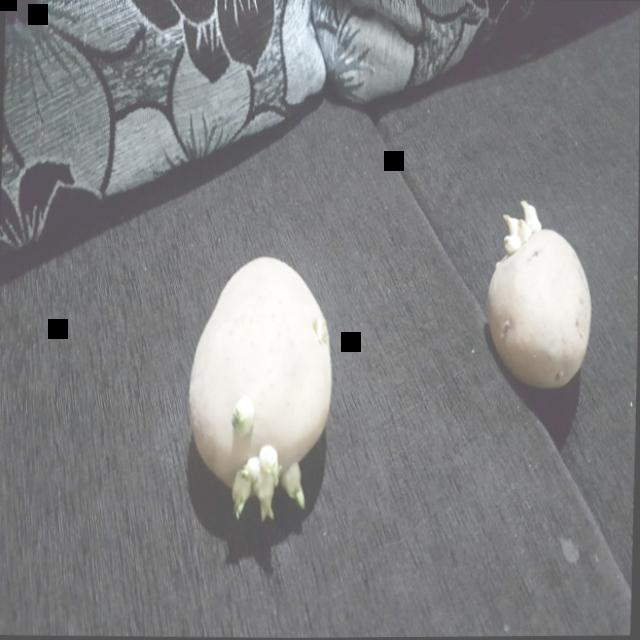potato: (183, 246, 337, 519), (484, 197, 602, 394)
